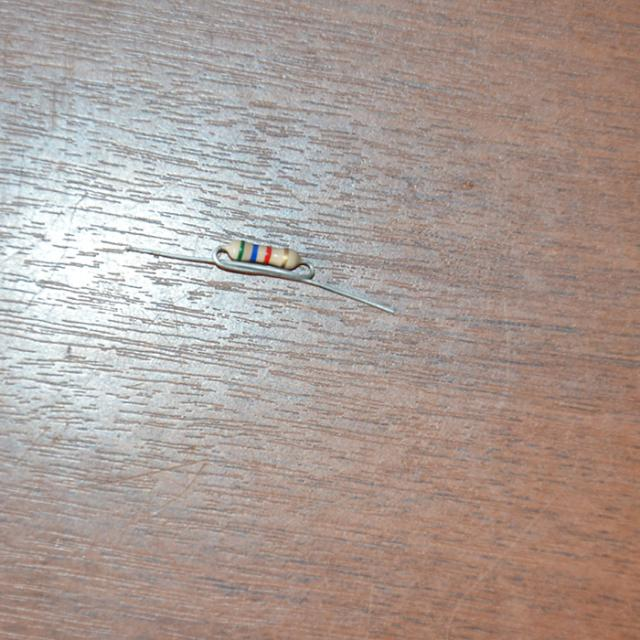blue: (251, 243, 257, 260)
gold: (282, 249, 289, 264)
green: (237, 240, 245, 259)
red: (265, 246, 272, 261)
resistor: (223, 236, 305, 271)
